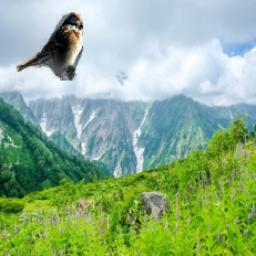Sparrow: (17, 12, 84, 81)
